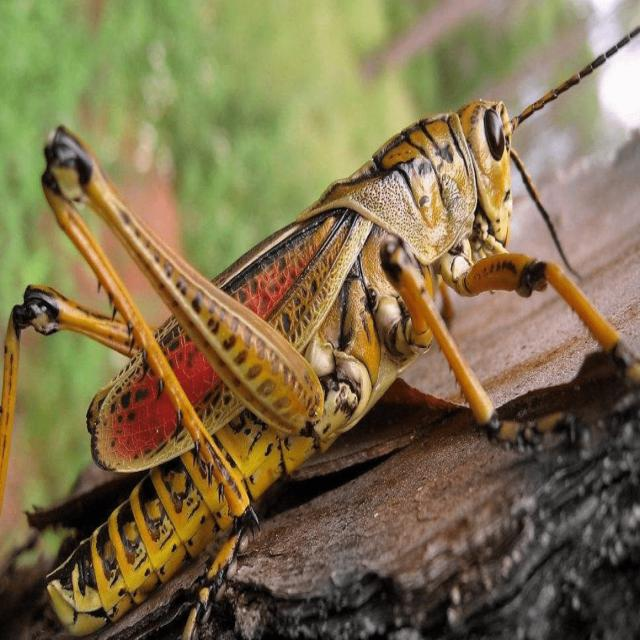ZhaMeng: (26, 43, 594, 637)
